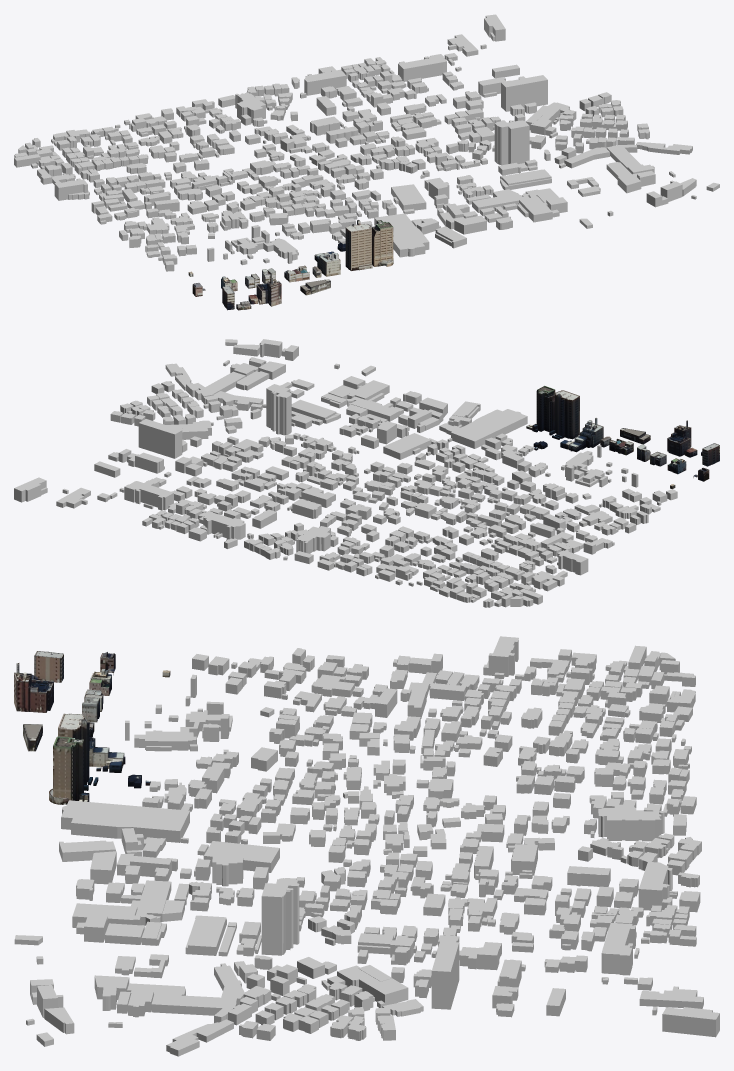
The model's file is 2023-lod3-station-7-3-packed.glb.
The picture shows the model from 3 angles, top to bottom: view 1: azimuth 30°, elevation 25°; view 2: azimuth 150°, elevation 25°; view 3: azimuth 270°, elevation 25°; orthographic projection. The views are drawn at different scales.
Bounding box in the file's own units: 632 × 49.46 × 474.
Materials: 3 (2 with a texture image).
